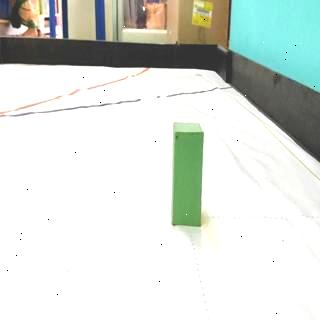greenbox: (172, 120, 206, 228)
